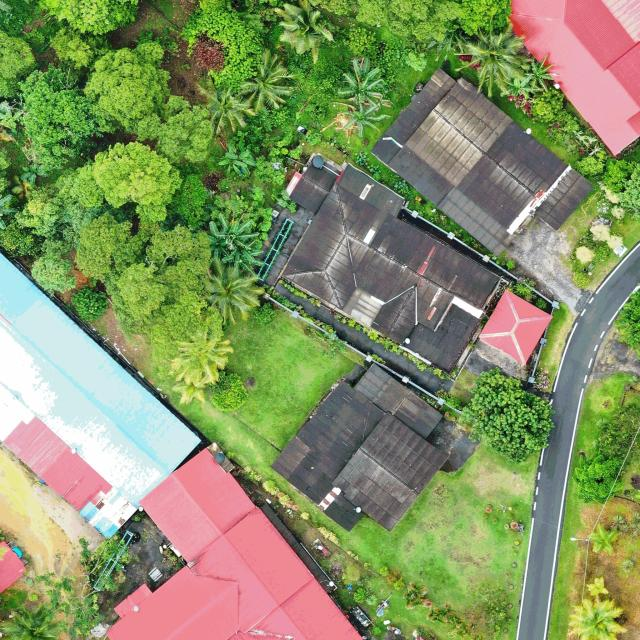Tree: (110, 224, 223, 378), (54, 139, 183, 223), (36, 534, 129, 636), (462, 366, 555, 466), (17, 61, 96, 178), (83, 48, 172, 138), (180, 0, 265, 84), (452, 22, 526, 98), (73, 209, 148, 282), (202, 261, 269, 328), (273, 2, 336, 65), (34, 0, 147, 35), (236, 50, 296, 113), (157, 102, 215, 166), (203, 210, 266, 266), (169, 330, 233, 385), (197, 80, 256, 134), (594, 404, 640, 465), (573, 452, 623, 506), (30, 238, 78, 294), (0, 602, 67, 640), (568, 596, 625, 640), (337, 56, 385, 104), (48, 24, 94, 70), (210, 368, 249, 412), (344, 102, 391, 138), (219, 138, 258, 178), (70, 284, 109, 323), (530, 88, 565, 124), (586, 522, 622, 556), (522, 55, 554, 89), (573, 152, 606, 179), (20, 164, 49, 188)
